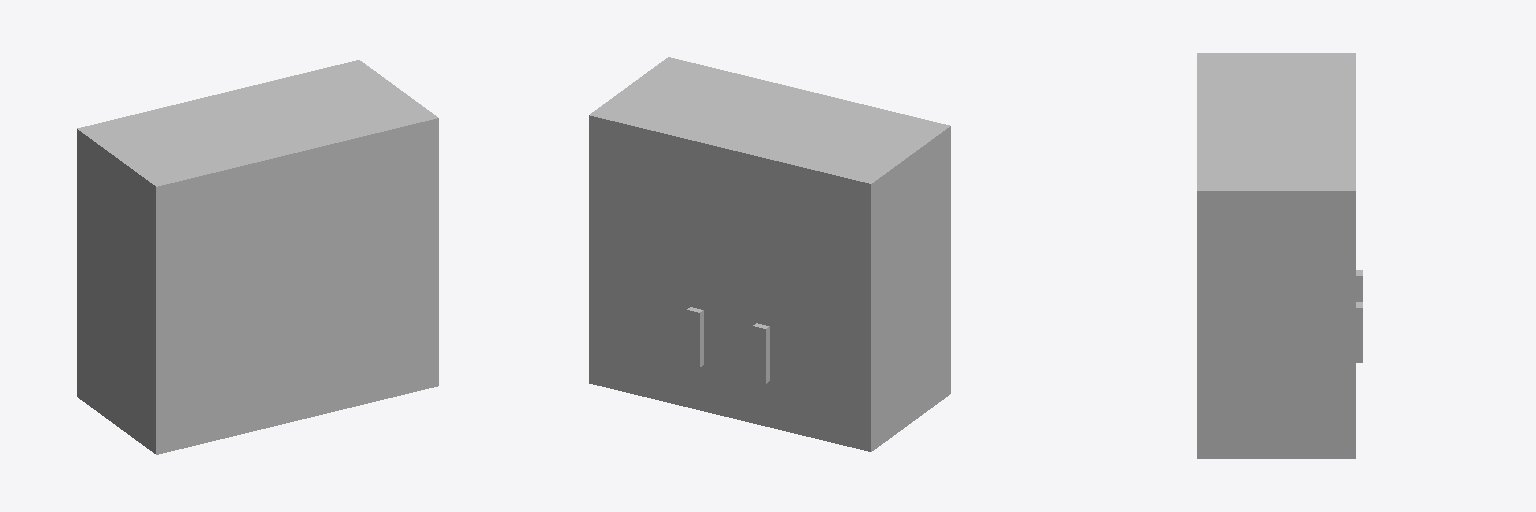
File: kitchenCabinetUpperDouble.obj
The picture shows the model from 3 angles: view 1: azimuth 30°, elevation 25°; view 2: azimuth 150°, elevation 25°; view 3: azimuth 270°, elevation 25°; orthographic projection.
Parts seen in each view (by area): view 1: kitchenCabinetUpperDouble; view 2: kitchenCabinetUpperDouble, doorRight, doorLeft; view 3: kitchenCabinetUpperDouble.
Boxes of the visible parts, x1=… form: kitchenCabinetUpperDouble: x1=77, y1=60, x2=438, y2=454; kitchenCabinetUpperDouble: x1=589, y1=57, x2=950, y2=451; doorRight: x1=730, y1=168, x2=853, y2=429; doorLeft: x1=606, y1=138, x2=729, y2=398; kitchenCabinetUpperDouble: x1=1197, y1=53, x2=1355, y2=458.
Size of the model in its own units: 0.43 by 0.39 by 0.22.